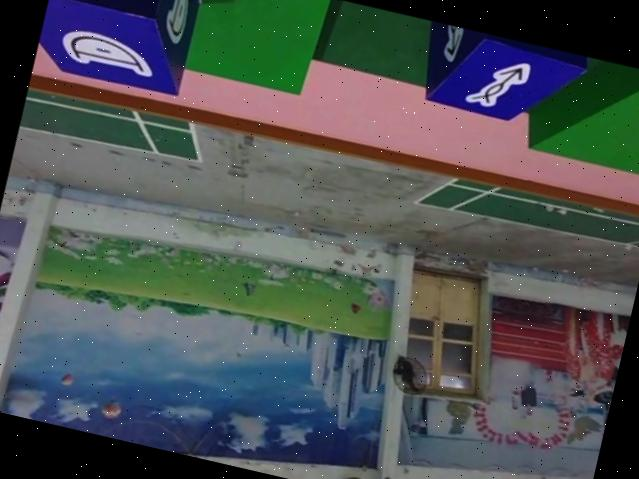R2 Real Blue: (414, 20, 587, 136), (31, 0, 206, 99)
